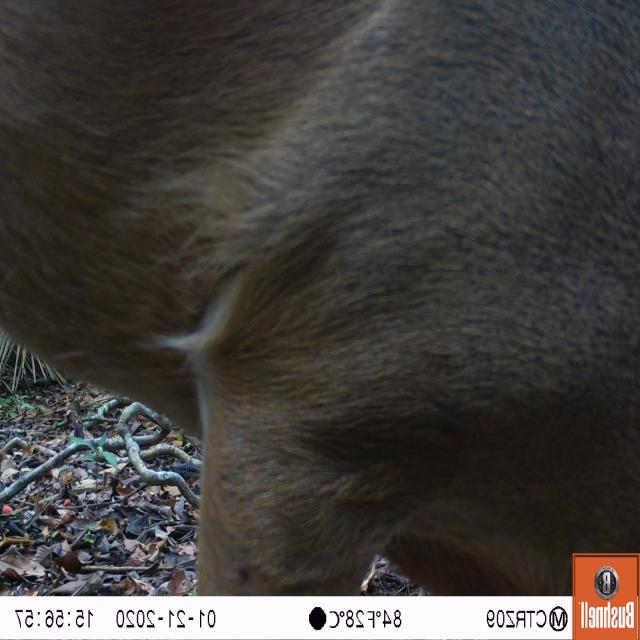White-tailed Deer: (0, 0, 639, 545)
